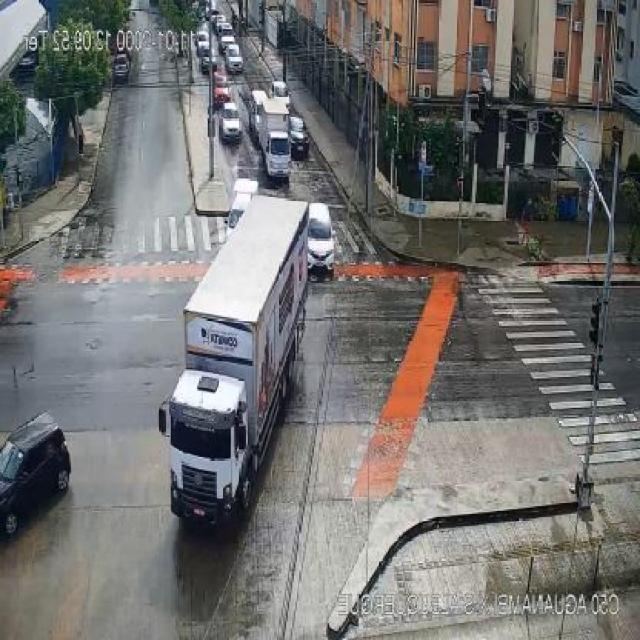Car: (0, 413, 70, 538), (304, 202, 334, 278), (227, 179, 260, 237), (288, 116, 310, 159), (219, 103, 242, 142), (223, 44, 243, 73), (212, 78, 232, 106), (113, 54, 130, 82), (220, 35, 237, 55), (196, 30, 210, 54), (217, 22, 233, 40), (208, 9, 221, 24), (215, 14, 227, 28)
Truck: (158, 195, 314, 528), (258, 97, 294, 181)
